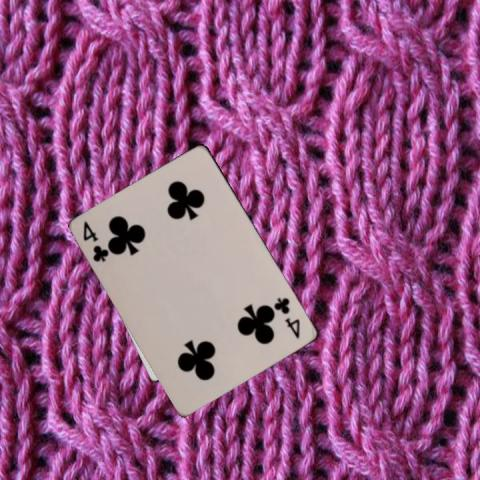4c: (80, 218, 111, 264), (271, 295, 302, 340)
